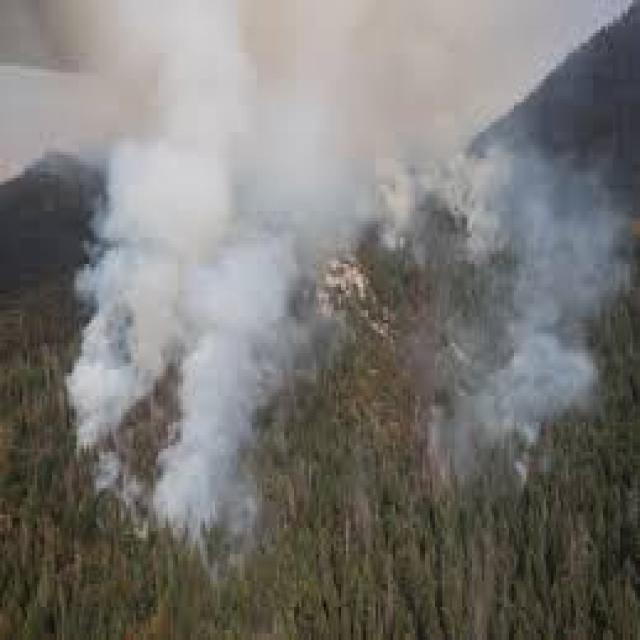Smoke: (94, 0, 517, 272), (62, 154, 316, 556), (454, 125, 608, 437), (147, 257, 281, 553), (56, 152, 178, 456)
